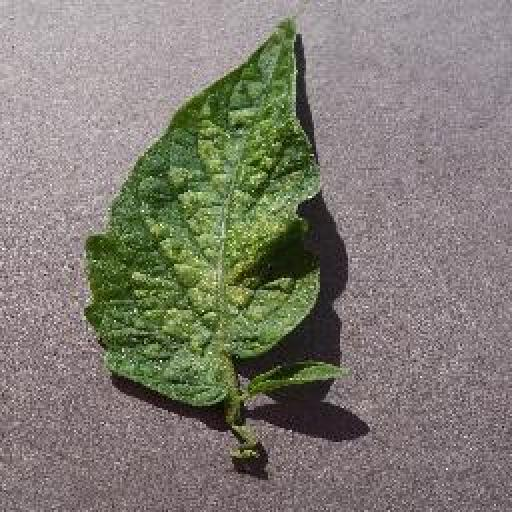disease_tomato: (86, 17, 322, 404)
